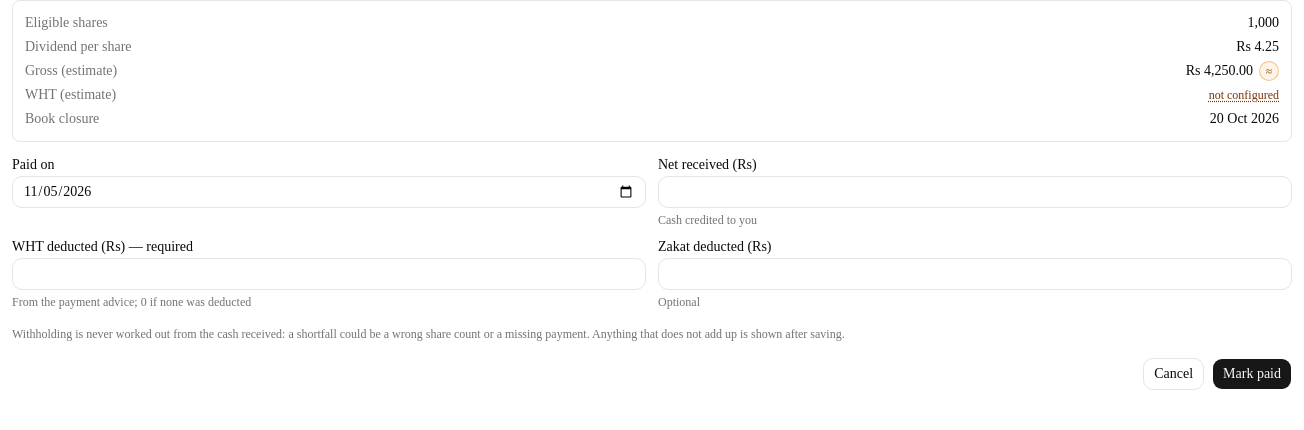
Test: mark paid › the dialog blocks submit without WHT, then shows the API’s unexplained difference prominently
Expected: the button with test id "tax-not-configured" is shown, [1209,87,1279,103]
Type "3600" into the field labelled "Net received (Rs)".
click(975, 192); type("3600")  # box [658,176,1292,208]
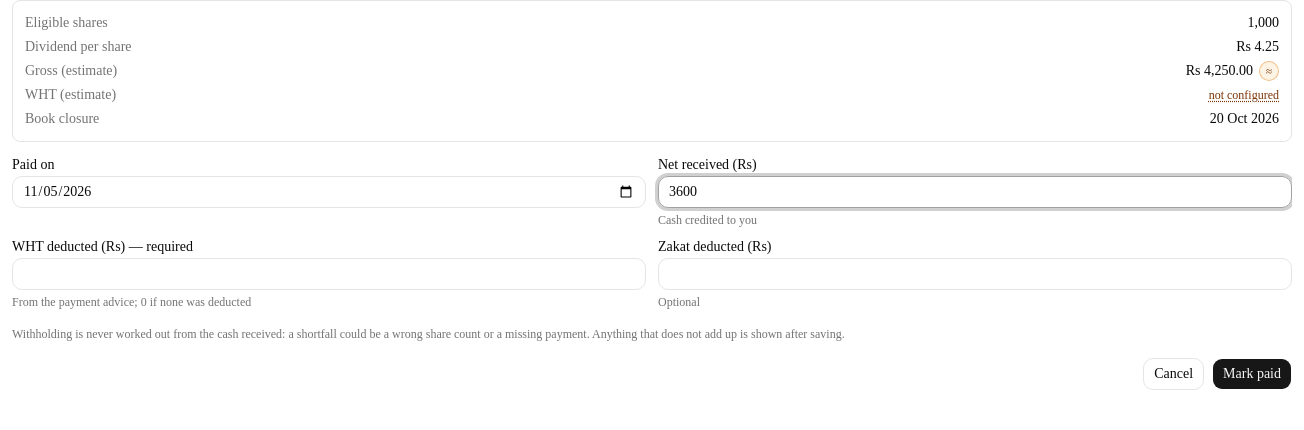
Click the button "Mark paid".
click(1252, 374)  # box [1212,358,1292,390]
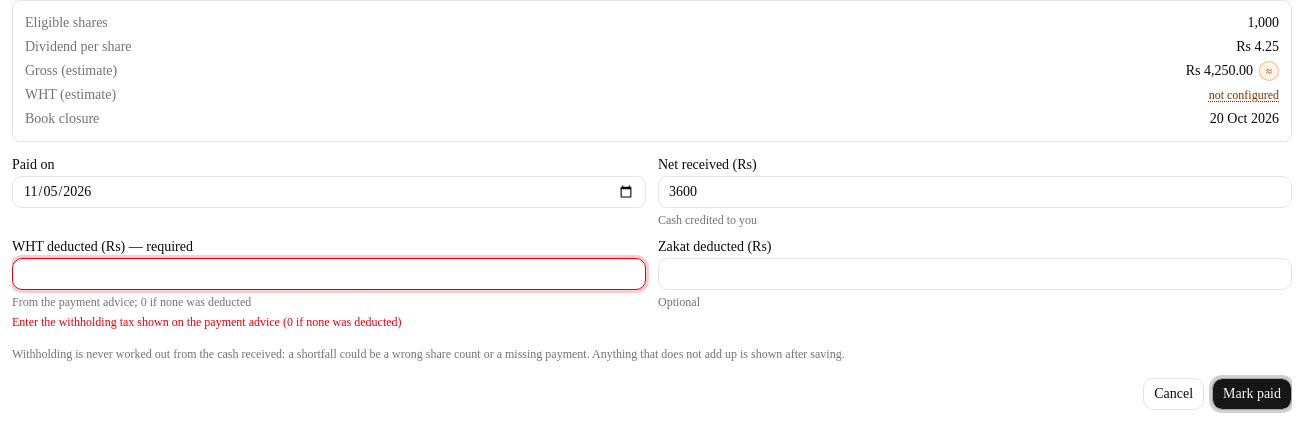
Expected: the text "Enter the withholding tax shown on the payment advice (0 if none was deducted)" is shown, [12,315,402,329]
Type "600" into the field labelled "WHT deducted (Rs) — required".
click(329, 274); type("600")  # box [12,258,646,290]
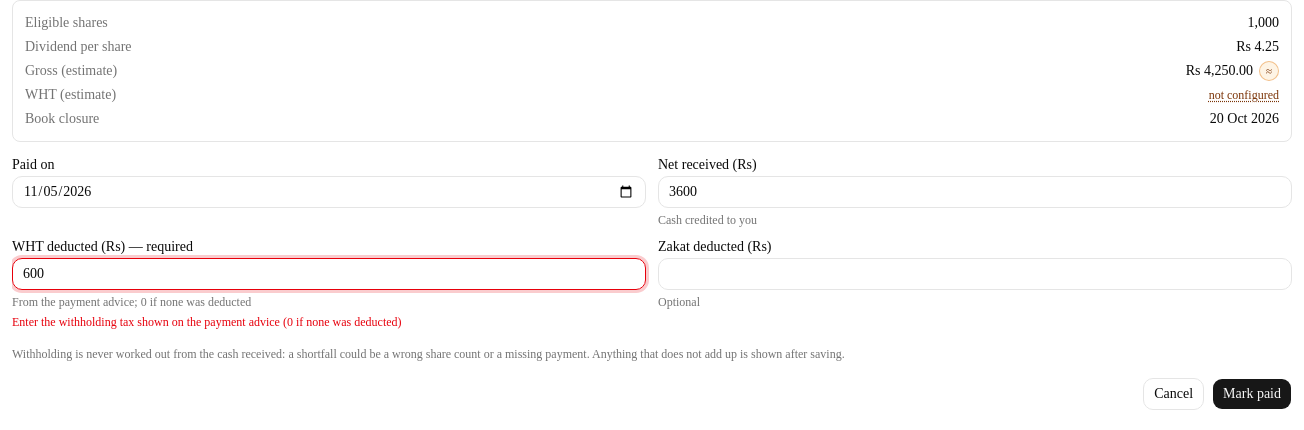
Click the button "Mark paid".
click(1252, 394)  # box [1212,378,1292,410]
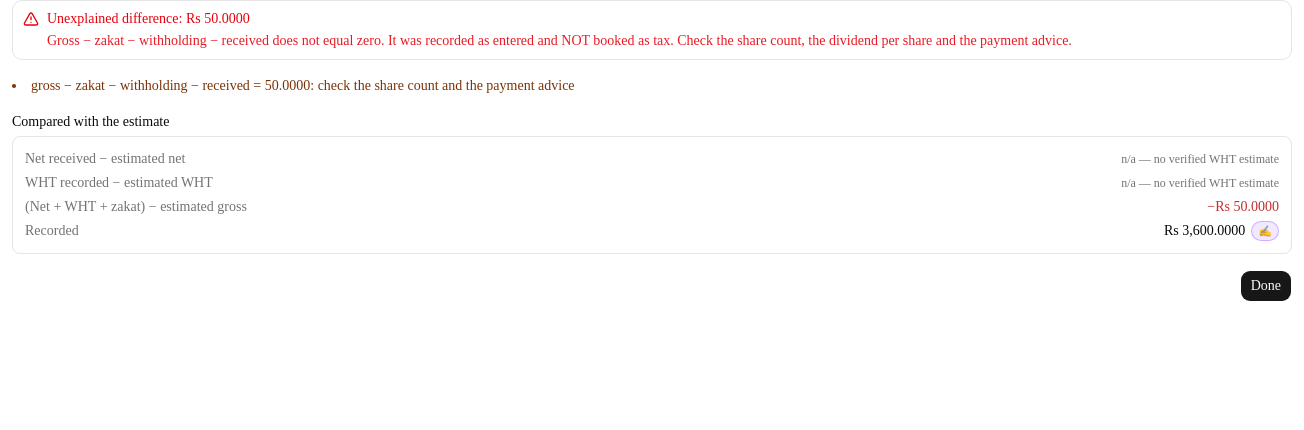
Expected: the message with test id "unexplained-difference" shows "Unexplained difference: Rs 50.0000", [12,0,1292,60]
Expected: the message with test id "unexplained-difference" shows "NOT booked as tax", [47,33,1072,48]
Expected: the list item "check the share count" is shown, [31,78,575,93]
